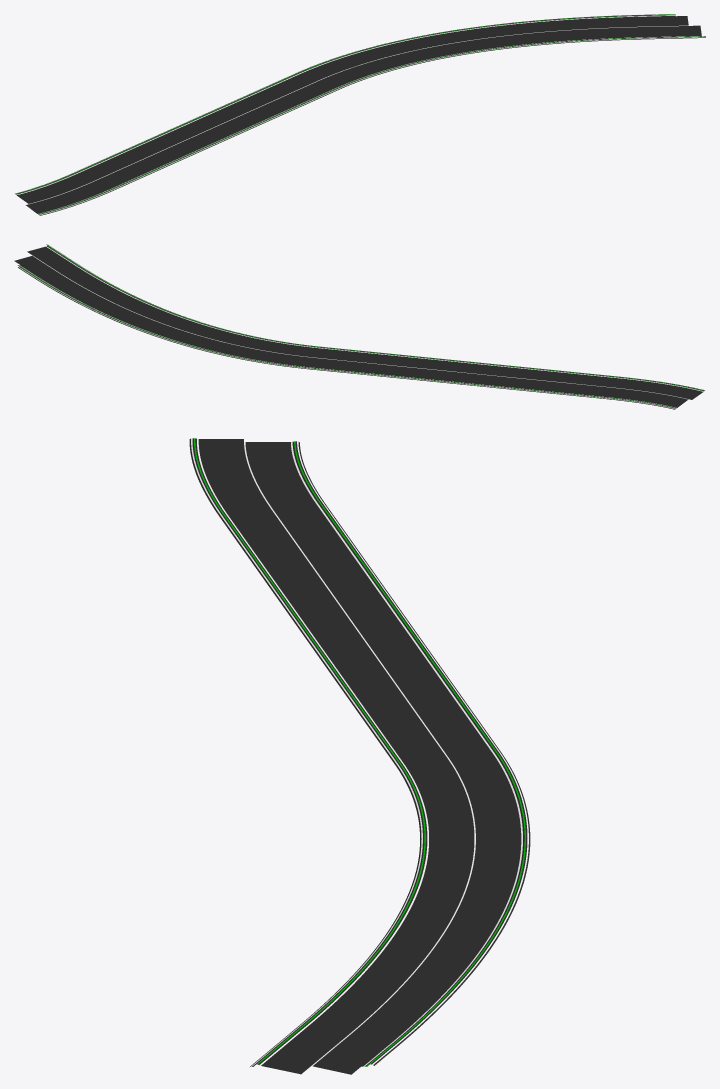
Rendered from Spa.Short.07.glb.
The picture shows the model from 3 angles, top to bottom: view 1: azimuth 30°, elevation 25°; view 2: azimuth 150°, elevation 25°; view 3: azimuth 270°, elevation 25°; orthographic projection. The views are drawn at different scales.
Parts seen in each view (by area): view 1: Track.007; view 2: Track.007; view 3: Track.007.
Part boxes in pixels (x1,y1,x2,y2): Track.007: (15, 14, 705, 215); Track.007: (14, 244, 704, 409); Track.007: (189, 438, 530, 1074).
Size of the model in its own units: 204 by 0.1549 by 46.3.
